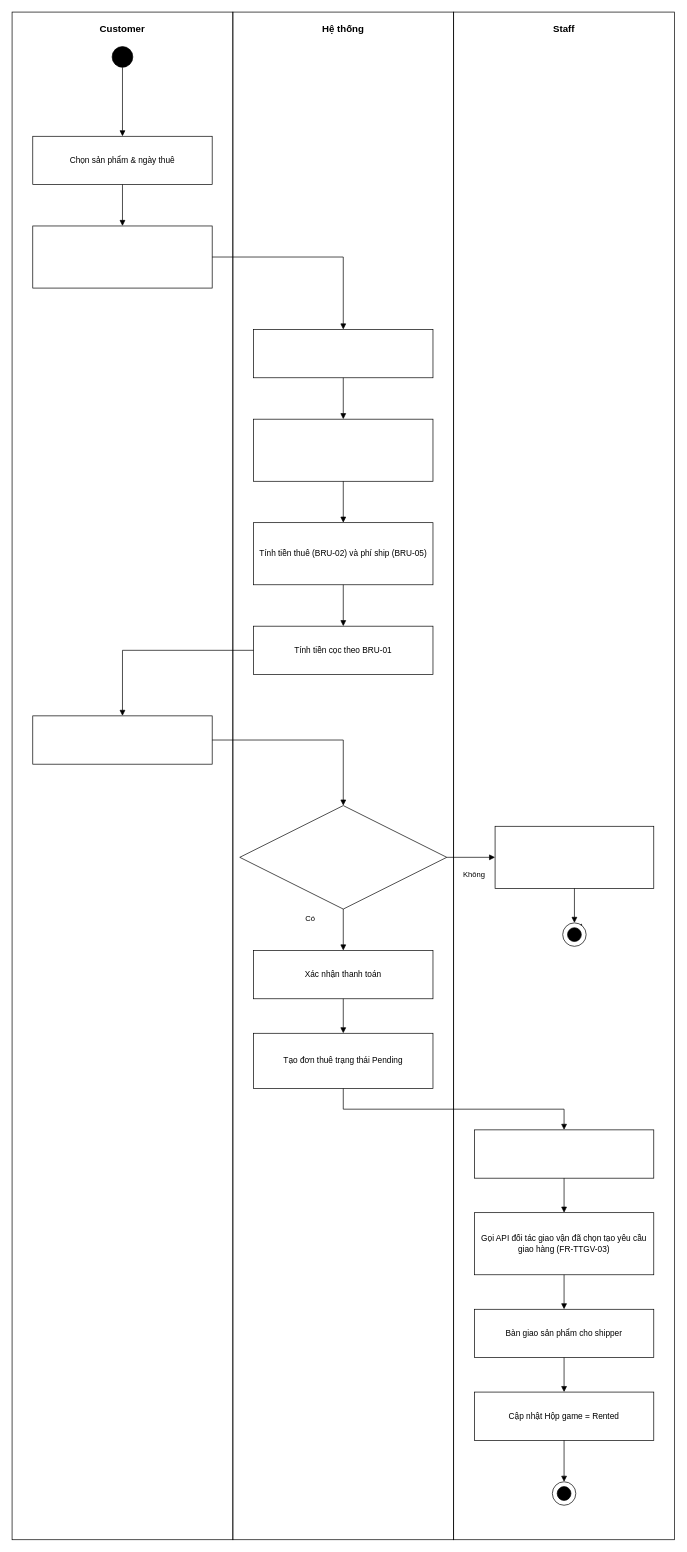
This 687x1552 diagram has some shape labels left out. Here are the shapes that lost their labels. From the top down, the centre of each, then its label:
At (x=122, y=256): "Xác nhận địa chỉ nhận hàng (lấy từ hồ sơ cá nhân)".
At (x=343, y=353): "Kiểm tra tồn kho theo ngày (FR-CT-02)".
At (x=343, y=449): "Tính khoảng cách, chọn đối tác giao vận theo bán kính 20km (BRU-05)".
At (x=122, y=739): "Thanh toán cọc qua mã QR (UC-10)".
At (x=343, y=857): "Sản phẩm/ngày còn khả dụng khi nhận webhook? (BRU-07)".
At (x=574, y=857): "Hoàn tiền vào Ví điện tử nội bộ".
At (x=564, y=1153): "Xác nhận đơn thuê (UC-05)".
